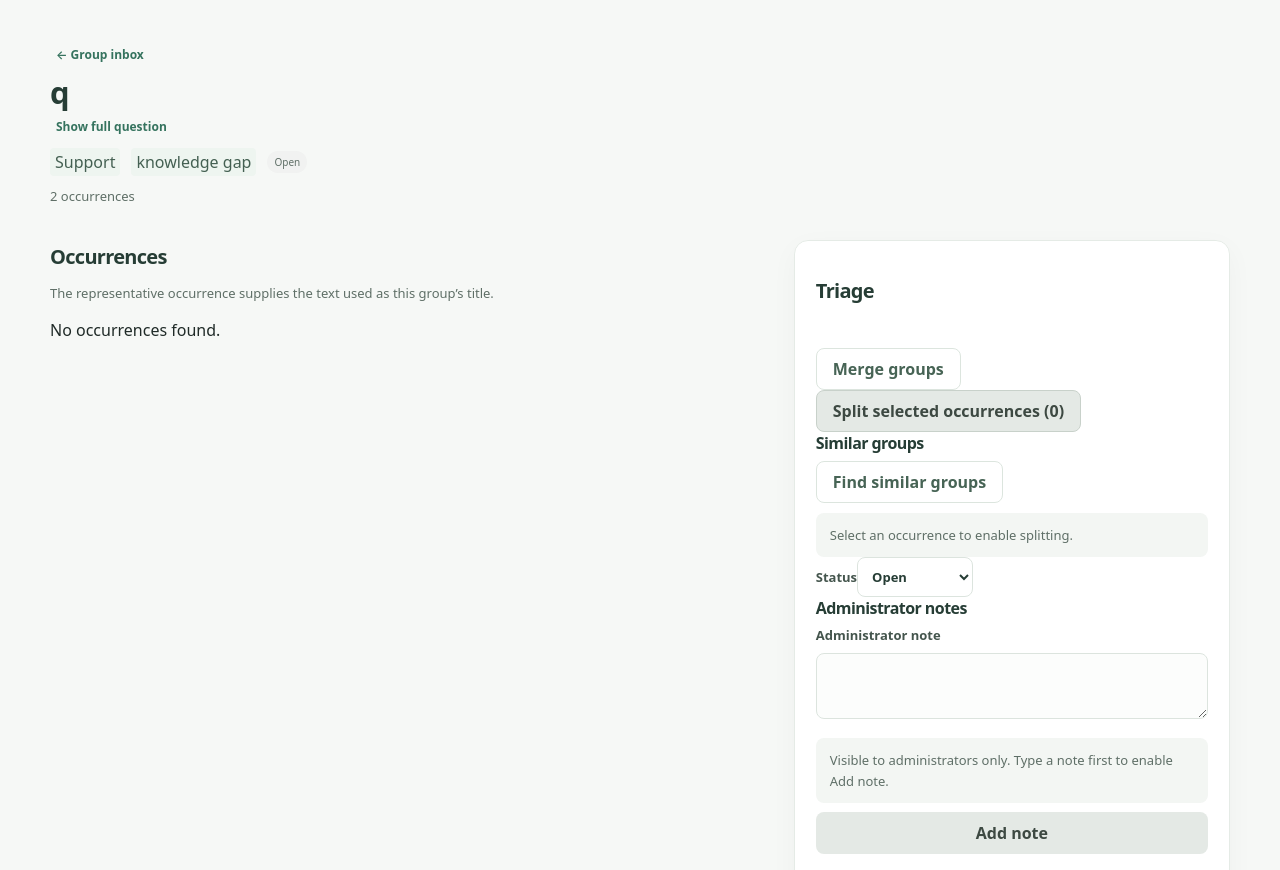
group detail safety and sections › merges compatible groups with the expected body and navigates to the target
Click the button "Merge groups". click: (888, 369)
box: left=816, top=348, right=961, bottom=390
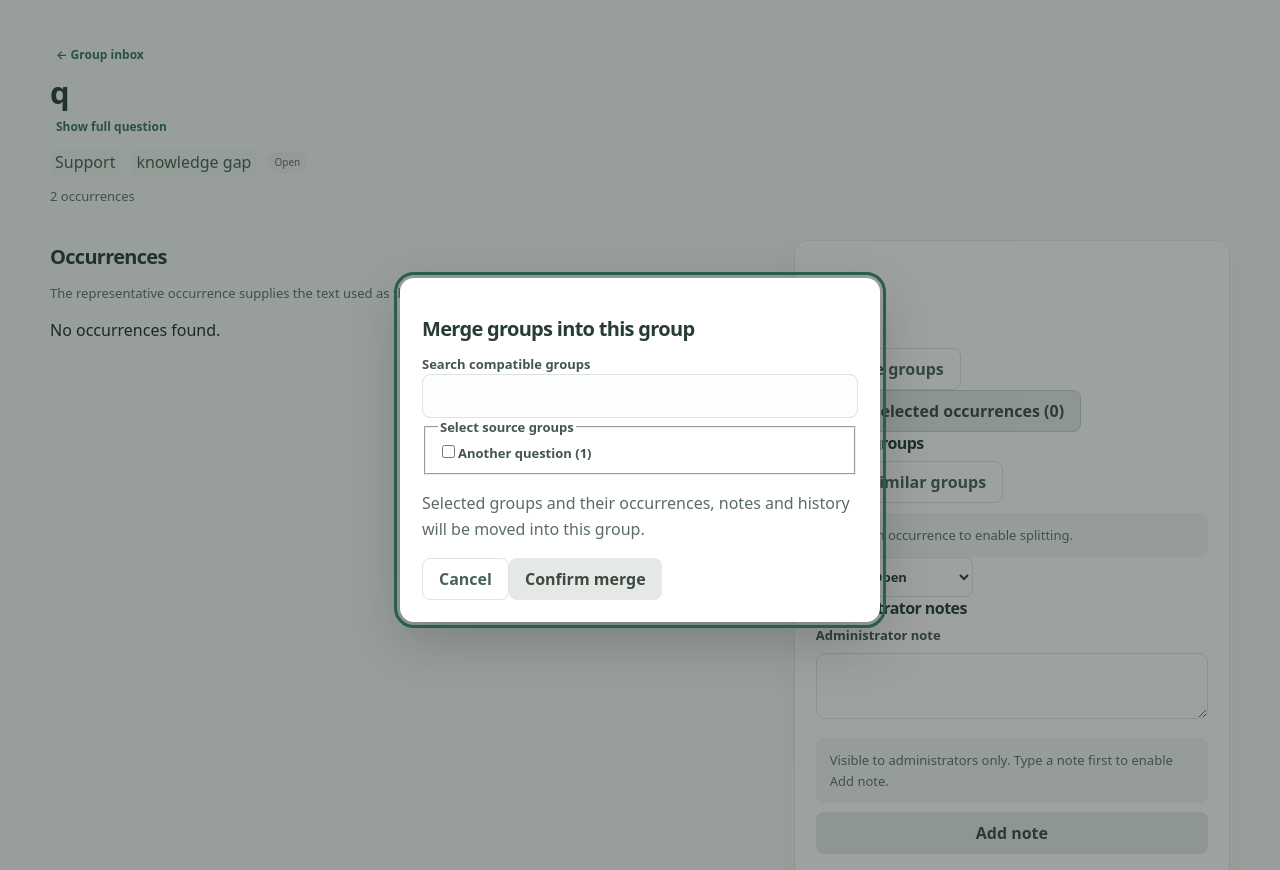
Click the checkbox labelled "Another question (1)". click: (448, 452)
box: left=442, top=445, right=455, bottom=458
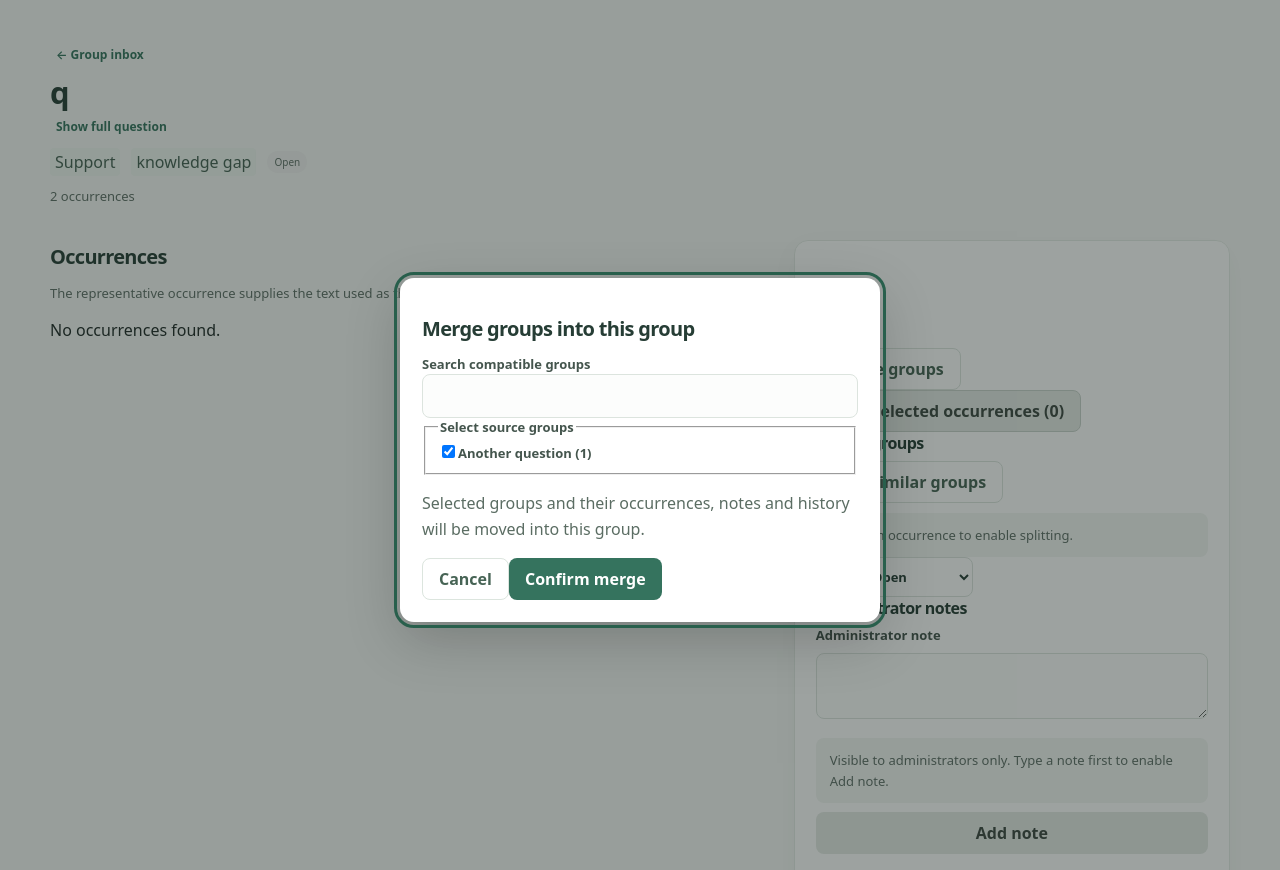
Click the button "Confirm merge". click: (585, 579)
box: left=509, top=558, right=662, bottom=600
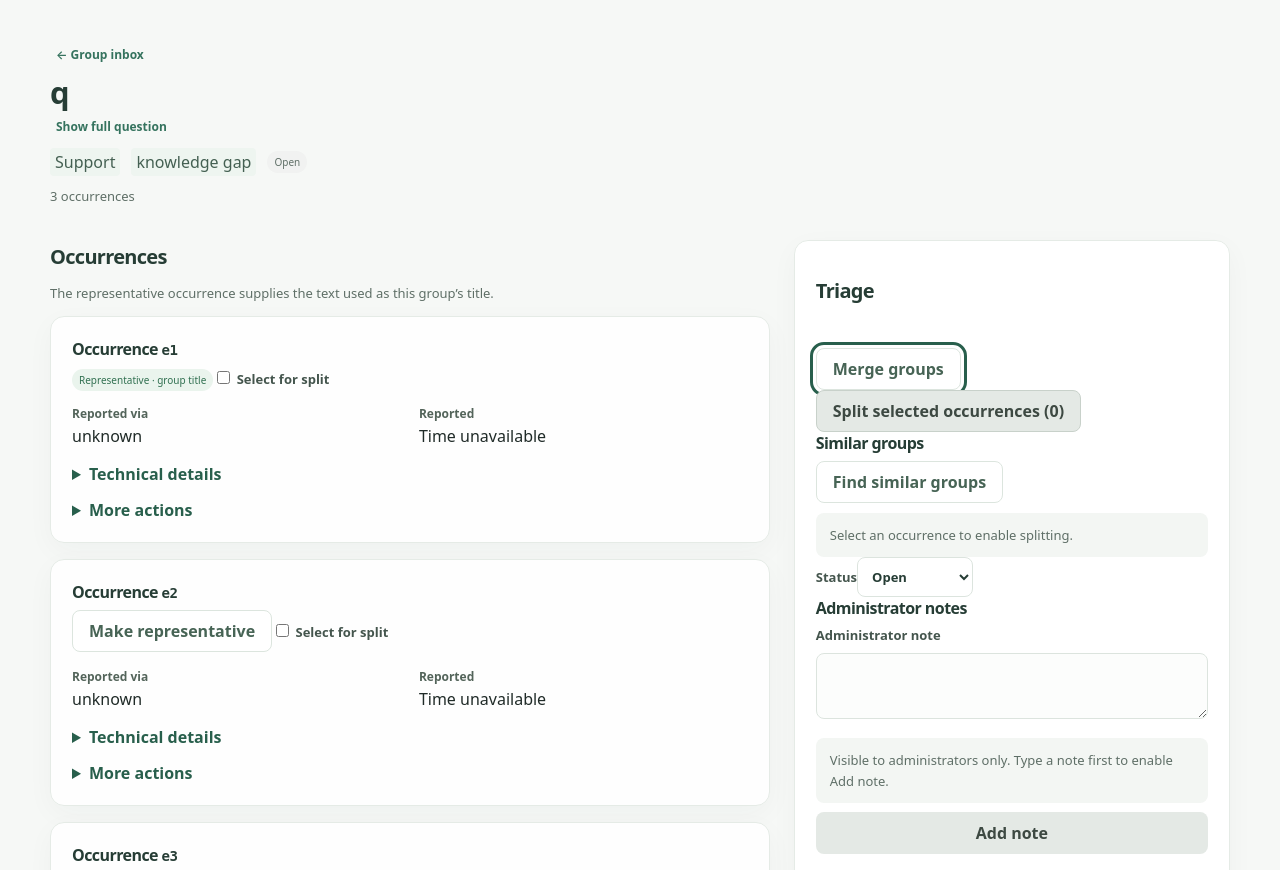
Check: the text "3 occurrences" is shown, box left=50, top=187, right=135, bottom=205
Check: the text "e3" is shown, box left=162, top=848, right=177, bottom=864
